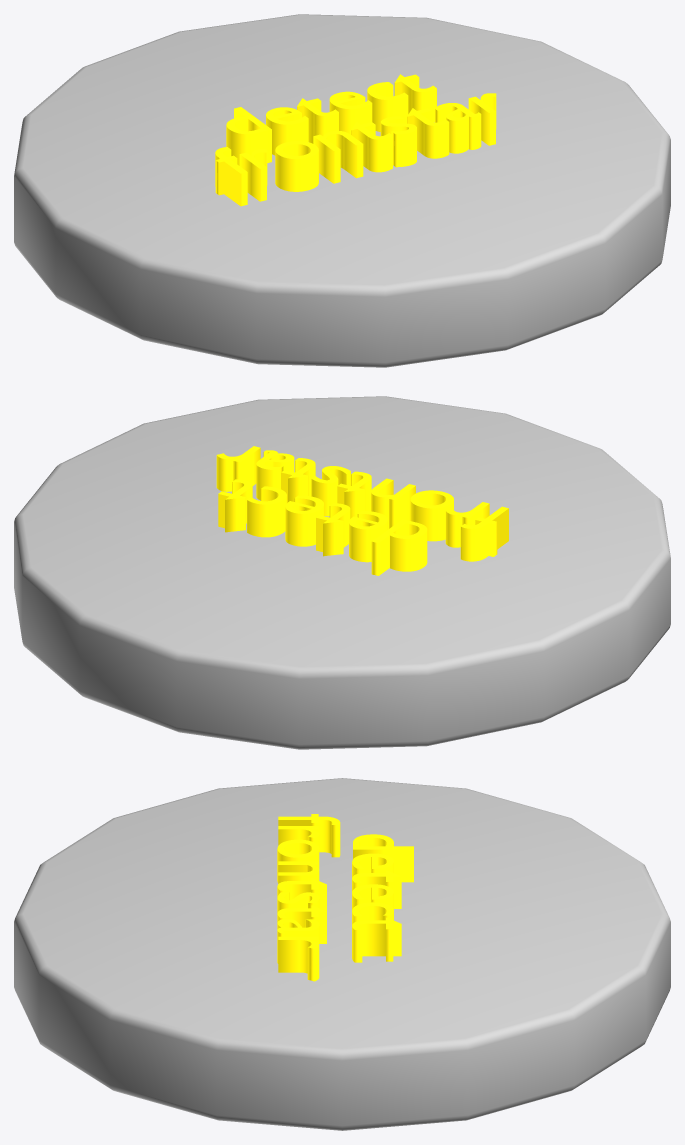
The model's file is detectfrontstar.fbx.
The picture shows the model from 3 angles, top to bottom: view 1: azimuth 30°, elevation 25°; view 2: azimuth 150°, elevation 25°; view 3: azimuth 270°, elevation 25°; orthographic projection.
Parts seen in each view (by area): view 1: Detect_Button, Frontstar_Text, Detect_Text; view 2: Detect_Button, Frontstar_Text, Detect_Text; view 3: Detect_Button, Frontstar_Text, Detect_Text.
Boxes of the visible parts, x1,y1,x2,y2 form: Detect_Button: (14,14,670,367); Frontstar_Text: (215,93,496,206); Detect_Text: (226,74,436,165); Detect_Button: (14,396,670,749); Frontstar_Text: (216,446,508,561); Detect_Text: (218,479,427,575); Detect_Button: (14,778,670,1130); Frontstar_Text: (277,814,340,981); Detect_Text: (352,834,413,962).
Size of the model in its own units: 440 by 84 by 440.
